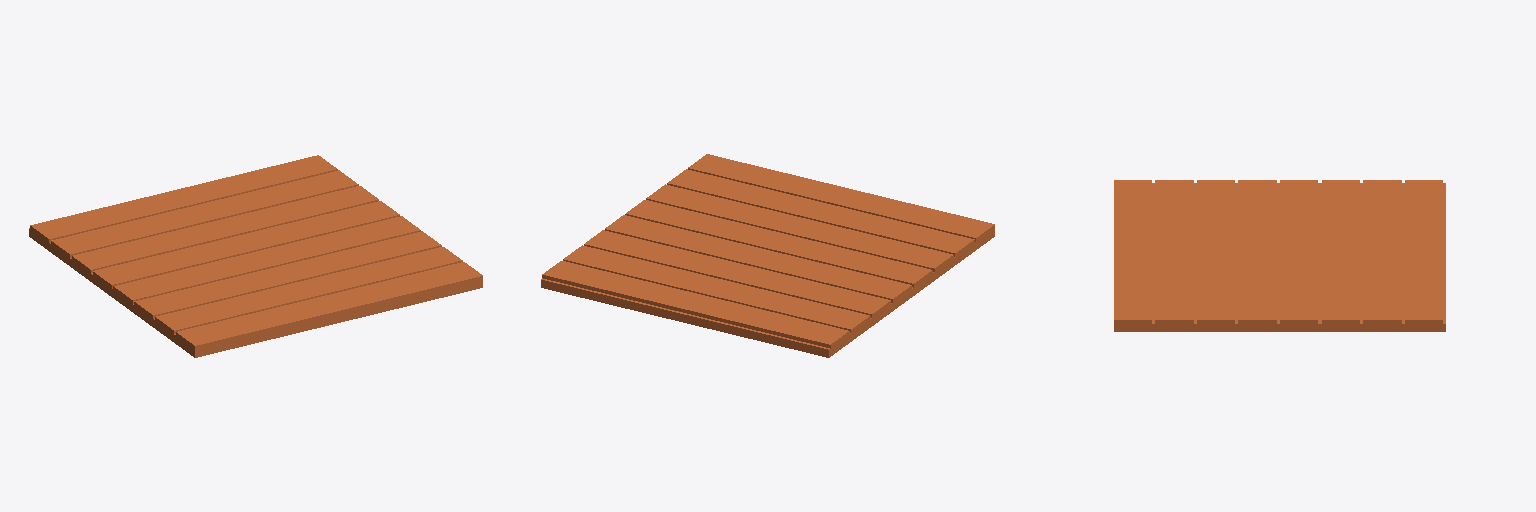
The model's file is cabinFloor.obj.
3 views of the same model, side by side, from view 1: azimuth 30°, elevation 25°; view 2: azimuth 150°, elevation 25°; view 3: azimuth 270°, elevation 25° (orthographic).
Visible parts, largest first — view 1: cabinFloor; view 2: cabinFloor; view 3: cabinFloor.
Boxes of the visible parts, x1,y1,x2,y2 form: cabinFloor: [29, 155, 482, 357]; cabinFloor: [541, 154, 994, 357]; cabinFloor: [1114, 180, 1445, 331].
Bounding box in the file's own units: 1 × 0.04 × 1.